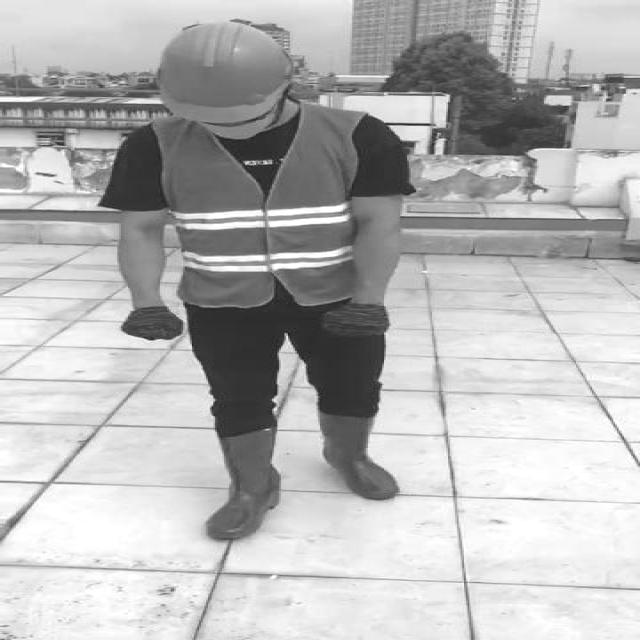boots: (206, 425, 281, 543), (322, 415, 398, 500)
hand_glove: (325, 303, 393, 336), (123, 306, 185, 339)
head_helmet: (154, 18, 300, 124)
person: (102, 22, 422, 546)
vest: (162, 108, 368, 306)
